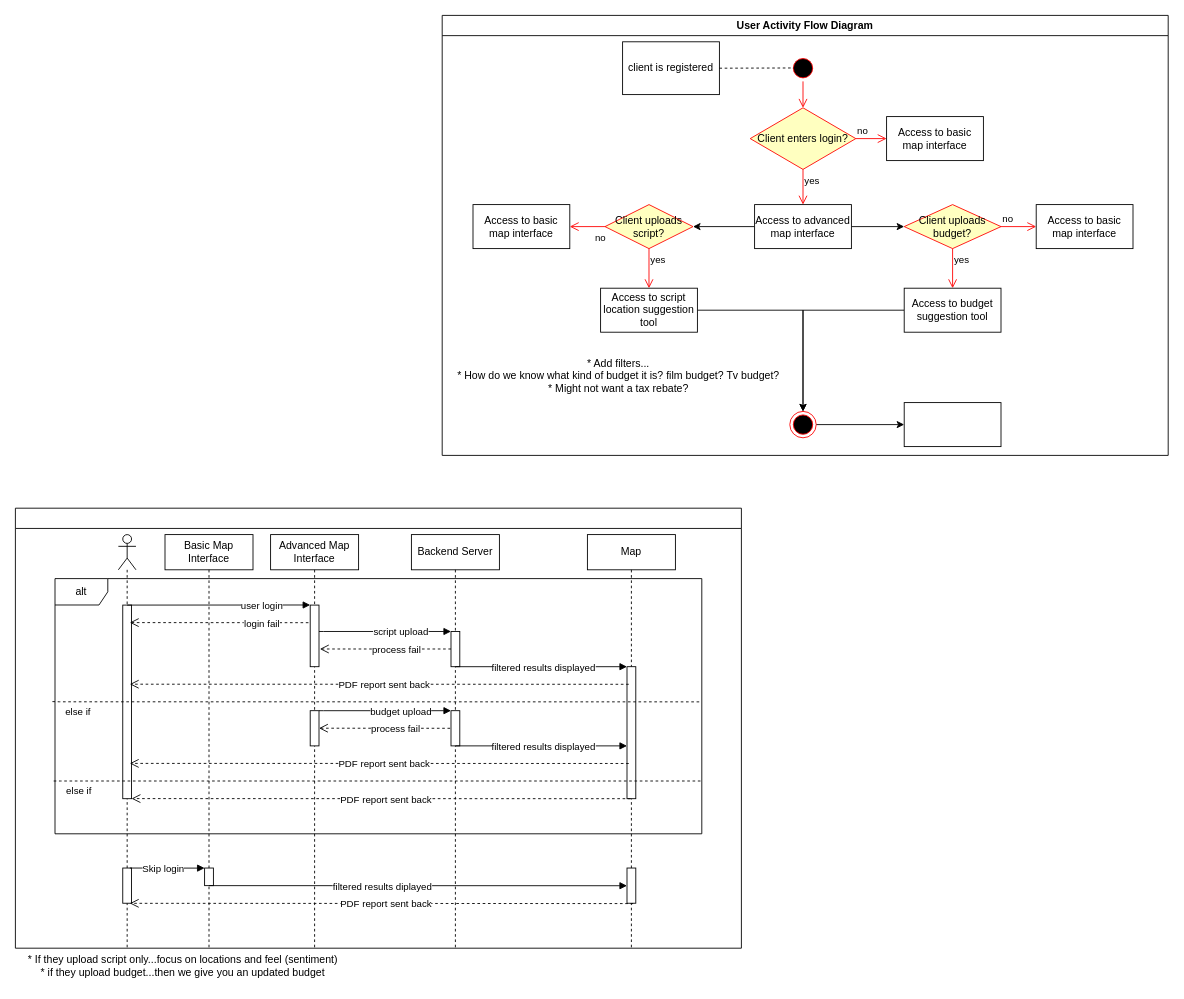
Image size: 1184x999. Some labels were removed from this diagram. Here are the shapes that lost their labels. From the top down, the centre of each, then its label:
(x=952, y=424): PDF report of results
(x=378, y=727): User Sequence Diagram
